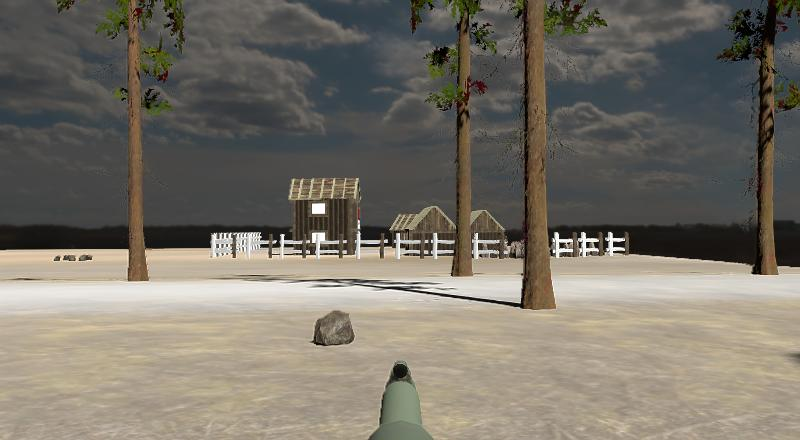House: (289, 176, 361, 254), (409, 206, 457, 258), (409, 207, 457, 257), (471, 210, 505, 257)
